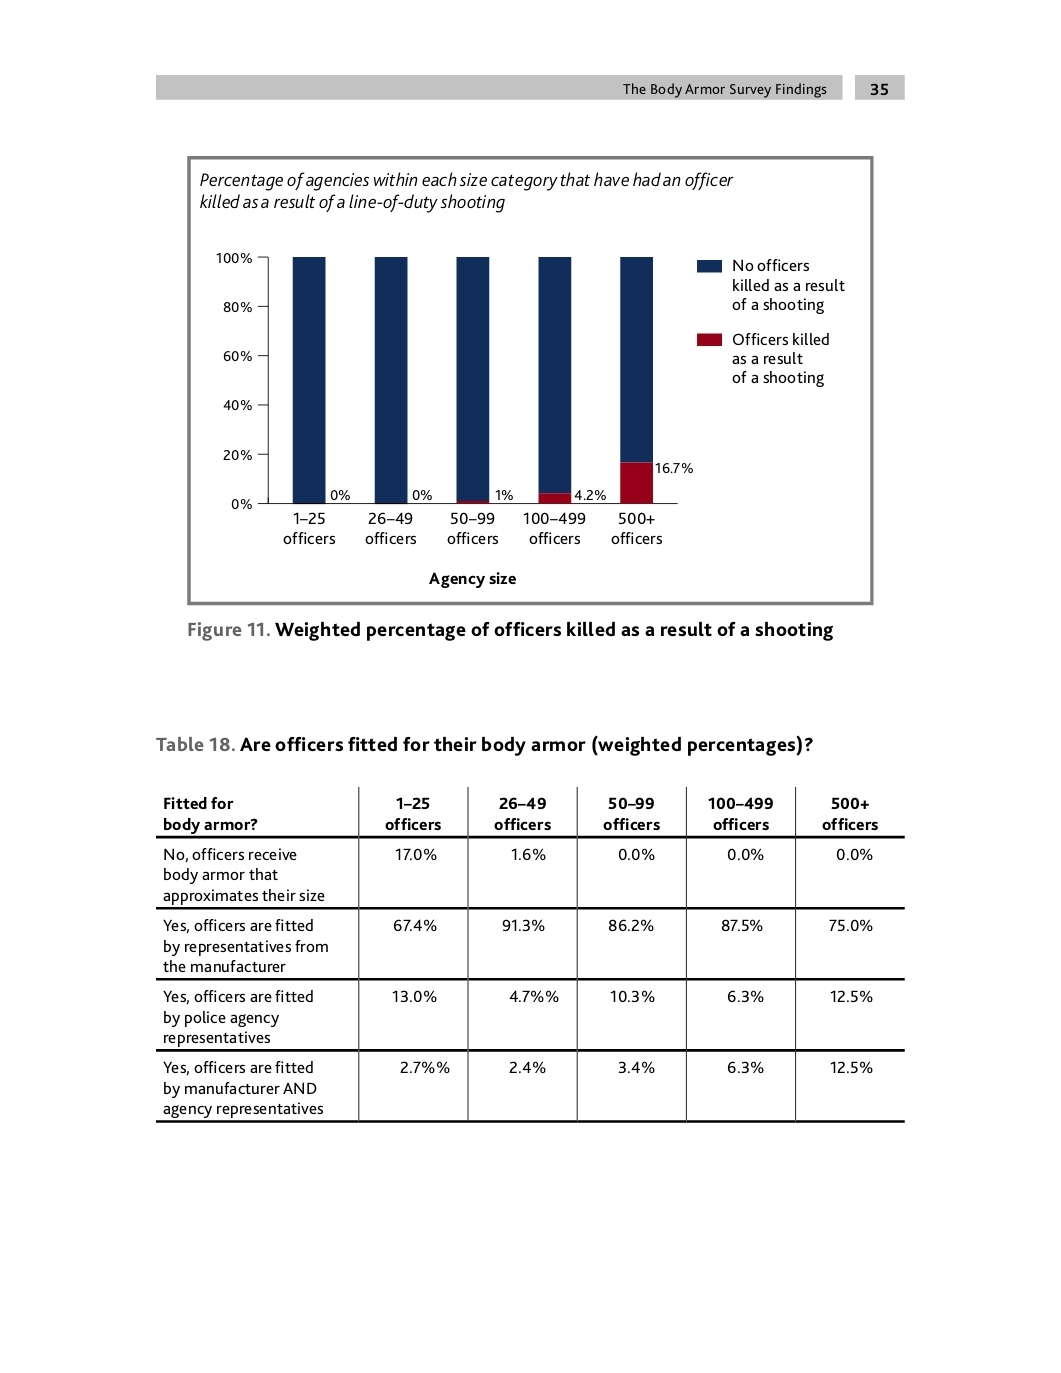Table: (156, 785, 904, 1123)
figure: (187, 155, 873, 606), (156, 75, 904, 99)
